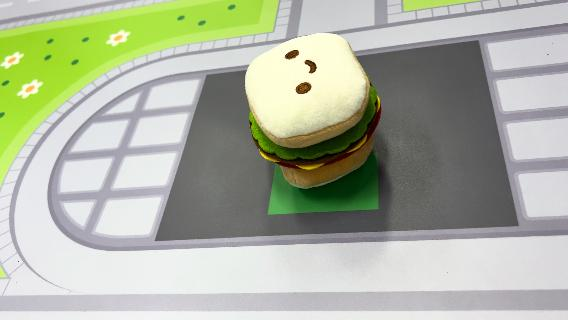sandwich: (242, 30, 384, 190)
